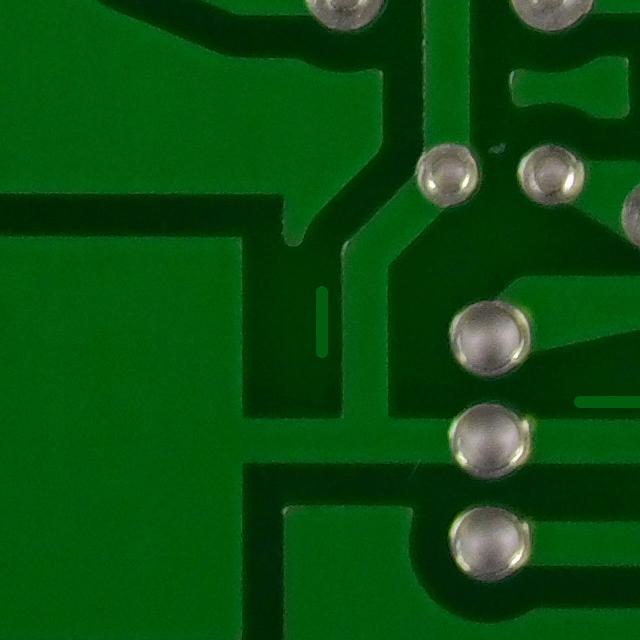spurious_copper: (294, 268, 346, 373)
